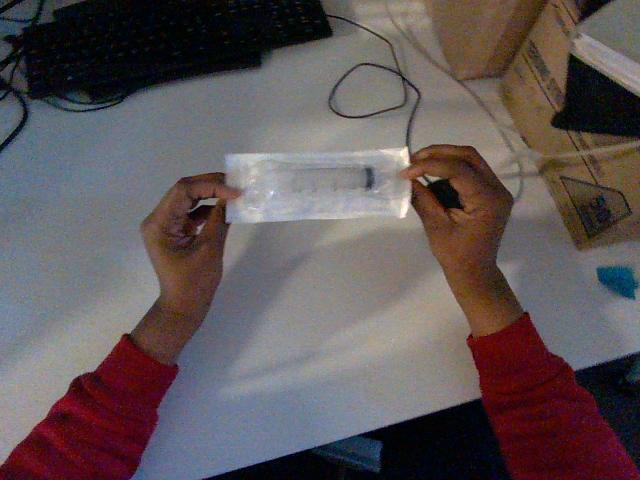syringe: (226, 147, 410, 222)
